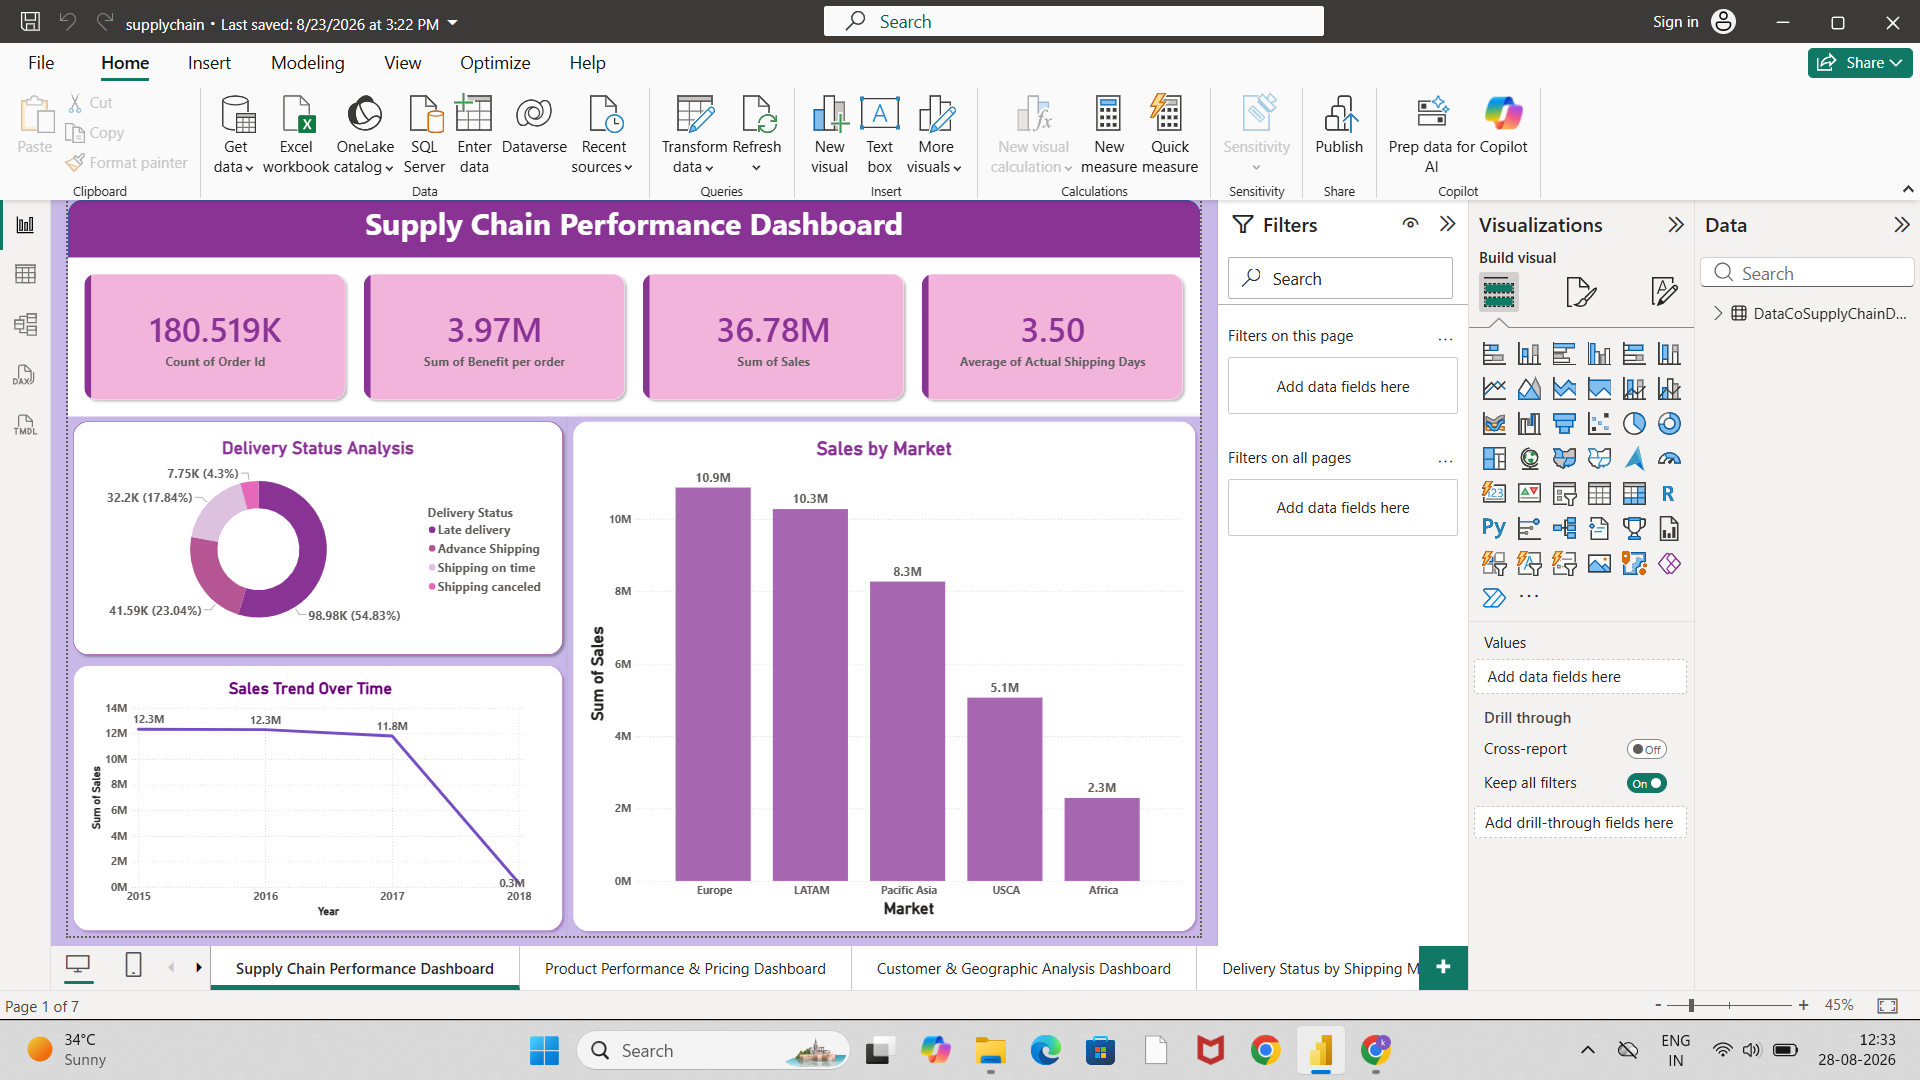

This screenshot's page, from the dashboard's own definition file:
{"tool":"powerbi","page":{"name":"Supply Chain Performance Dashboard","canvas":[2000,1300],"ordinal":0},"visuals":[{"type":"cardVisual","fields":{"Data":["CountNonNull(DataCoSupplyChainDataset.Order Id)","Sum(DataCoSupplyChainDataset.Benefit per order)","Sum(DataCoSupplyChainDataset.Sales)","Avg(DataCoSupplyChainDataset.Actual Shipping Days)"]},"box":[0,101.6,2000.4,280.4],"z":0},{"type":"shape","box":[0,0,2000.4,101.6],"z":1000},{"type":"textbox","box":[0,0,2000.4,101.6],"z":2000},{"type":"shape","box":[0,382,883.2,430.5],"z":3000},{"type":"donutChart","title":"Delivery Status Analysis","fields":{"Category":["DataCoSupplyChainDataset.Delivery Status"],"Y":["CountNonNull(DataCoSupplyChainDataset.Order Id)"]},"box":[33.1,419.5,816.9,359.9],"z":4000},{"type":"shape","box":[0,812.5,883.2,487.9],"z":5000},{"type":"shape","box":[883.2,382,1117.2,918.5],"z":6000},{"type":"clusteredColumnChart","title":"Sales by Market","fields":{"Category":["DataCoSupplyChainDataset.Market"],"Y":["Sum(DataCoSupplyChainDataset.Sales)"]},"box":[911.9,419.5,1059.8,852.2],"z":7000},{"type":"lineChart","title":"Sales Trend Over Time","fields":{"Category":["DataCoSupplyChainDataset.Year"],"Y":["Sum(DataCoSupplyChainDataset.Sales)"]},"box":[33.1,845.6,790.4,426.1],"z":8000}]}

Visuals, with their boxes on the page's 2000x1300 design canvas (x1, y1, x2, y2). These are canvas units, not pixel positions in the 1920x1080 screenshot, which may show the page scaled, cropped or inside an application window:
cardVisual - CountNonNull(DataCoSupplyChainDataset.Order Id) x Sum(DataCoSupplyChainDataset.Benefit per order): 0:102:2000:382
shape: 0:0:2000:102
textbox: 0:0:2000:102
shape: 0:382:883:812
"Delivery Status Analysis" donutChart: 33:420:850:779
shape: 0:812:883:1300
shape: 883:382:2000:1300
"Sales by Market" clusteredColumnChart: 912:420:1972:1272
"Sales Trend Over Time" lineChart: 33:846:824:1272
